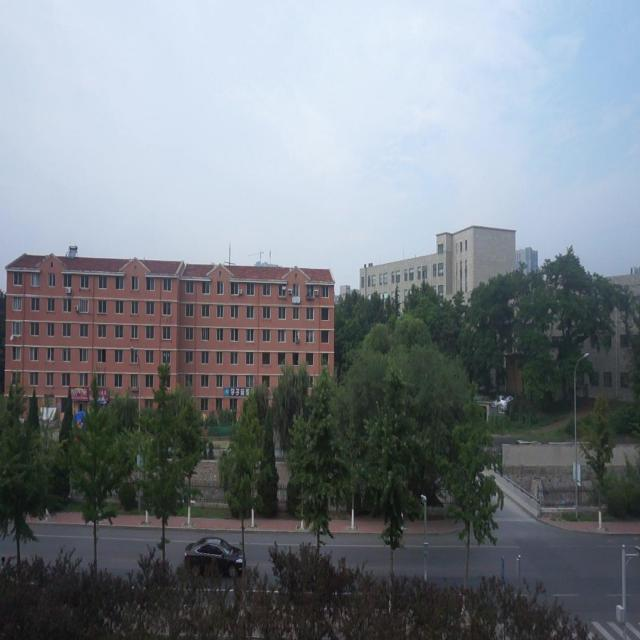UAV: (492, 394, 514, 414)
